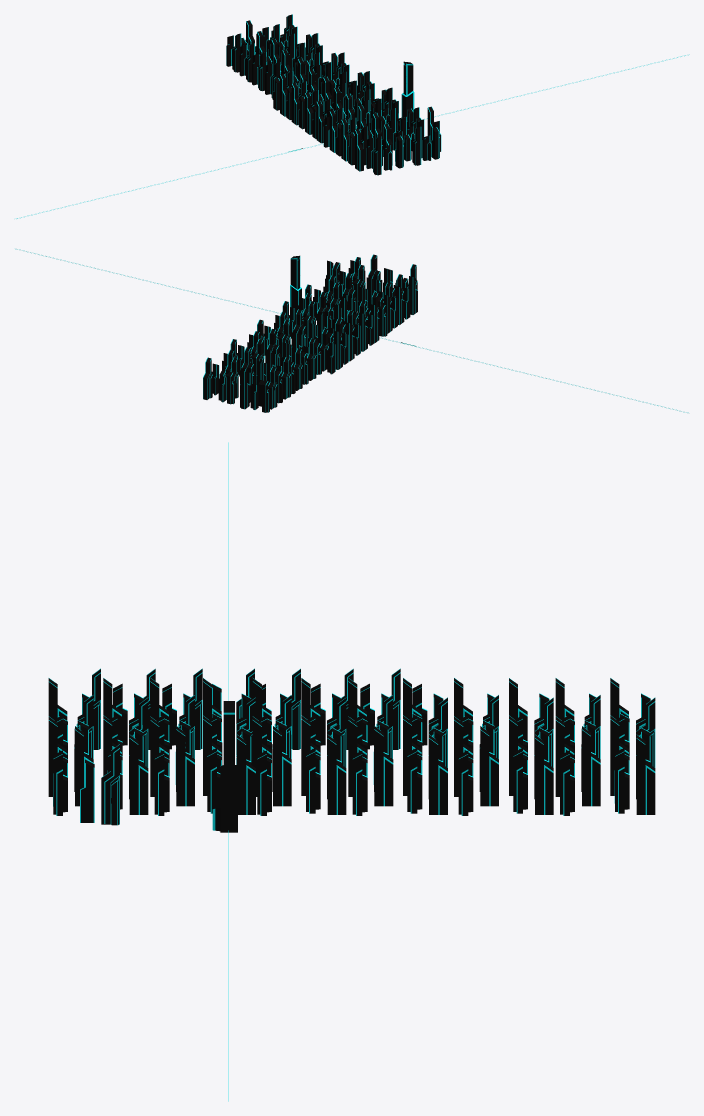
Rendered from Sketchfab_2018_03_20_15_32_07.fbx.
3 renders of one model, top to bottom at view 1: azimuth 30°, elevation 25°; view 2: azimuth 150°, elevation 25°; view 3: azimuth 270°, elevation 25°, orthographic. The views are drawn at different scales.
Visible parts, largest first — view 1: Cube.144, Cube.038, Cube.155, Cube.145; view 2: Cube.144, Cube.103, Cube.121, Cube.102, Cube.097, Cube.120, Cube.143, Cube.096, Cube.152, Cube.145; view 3: Cube.144, Cube.079, Cube.055, Cube.103, Cube.044, Cube.127, Cube.019, Cube.090, Cube.159, Cube.066, Cube.114, Cube.138 (+1 smaller).
Part boxes in pixels (x1,y1,x2,y2): Cube.144: [401, 61, 414, 121]; Cube.038: [412, 126, 421, 165]; Cube.155: [291, 82, 299, 125]; Cube.145: [355, 129, 363, 171]; Cube.144: [290, 255, 301, 312]; Cube.103: [203, 357, 212, 399]; Cube.121: [307, 338, 316, 380]; Cube.102: [240, 370, 249, 409]; Cube.097: [268, 367, 277, 409]; Cube.120: [281, 357, 290, 399]; Cube.143: [294, 348, 302, 390]; Cube.096: [320, 329, 328, 371]; Cube.152: [334, 331, 342, 369]; Cube.145: [409, 276, 417, 314]; Cube.144: [212, 701, 237, 832]; Cube.079: [374, 726, 393, 806]; Cube.055: [327, 734, 346, 814]; Cube.103: [636, 735, 655, 814]; Cube.044: [129, 735, 148, 814]; Cube.127: [480, 726, 498, 806]; Cube.019: [176, 726, 194, 806]; Cube.090: [429, 734, 447, 814]; Cube.159: [101, 744, 119, 825]; Cube.066: [273, 726, 291, 806]; Cube.114: [582, 726, 600, 806]; Cube.138: [535, 734, 553, 814].
Size of the model in its own units: 102049 by 8998 by 39691.
